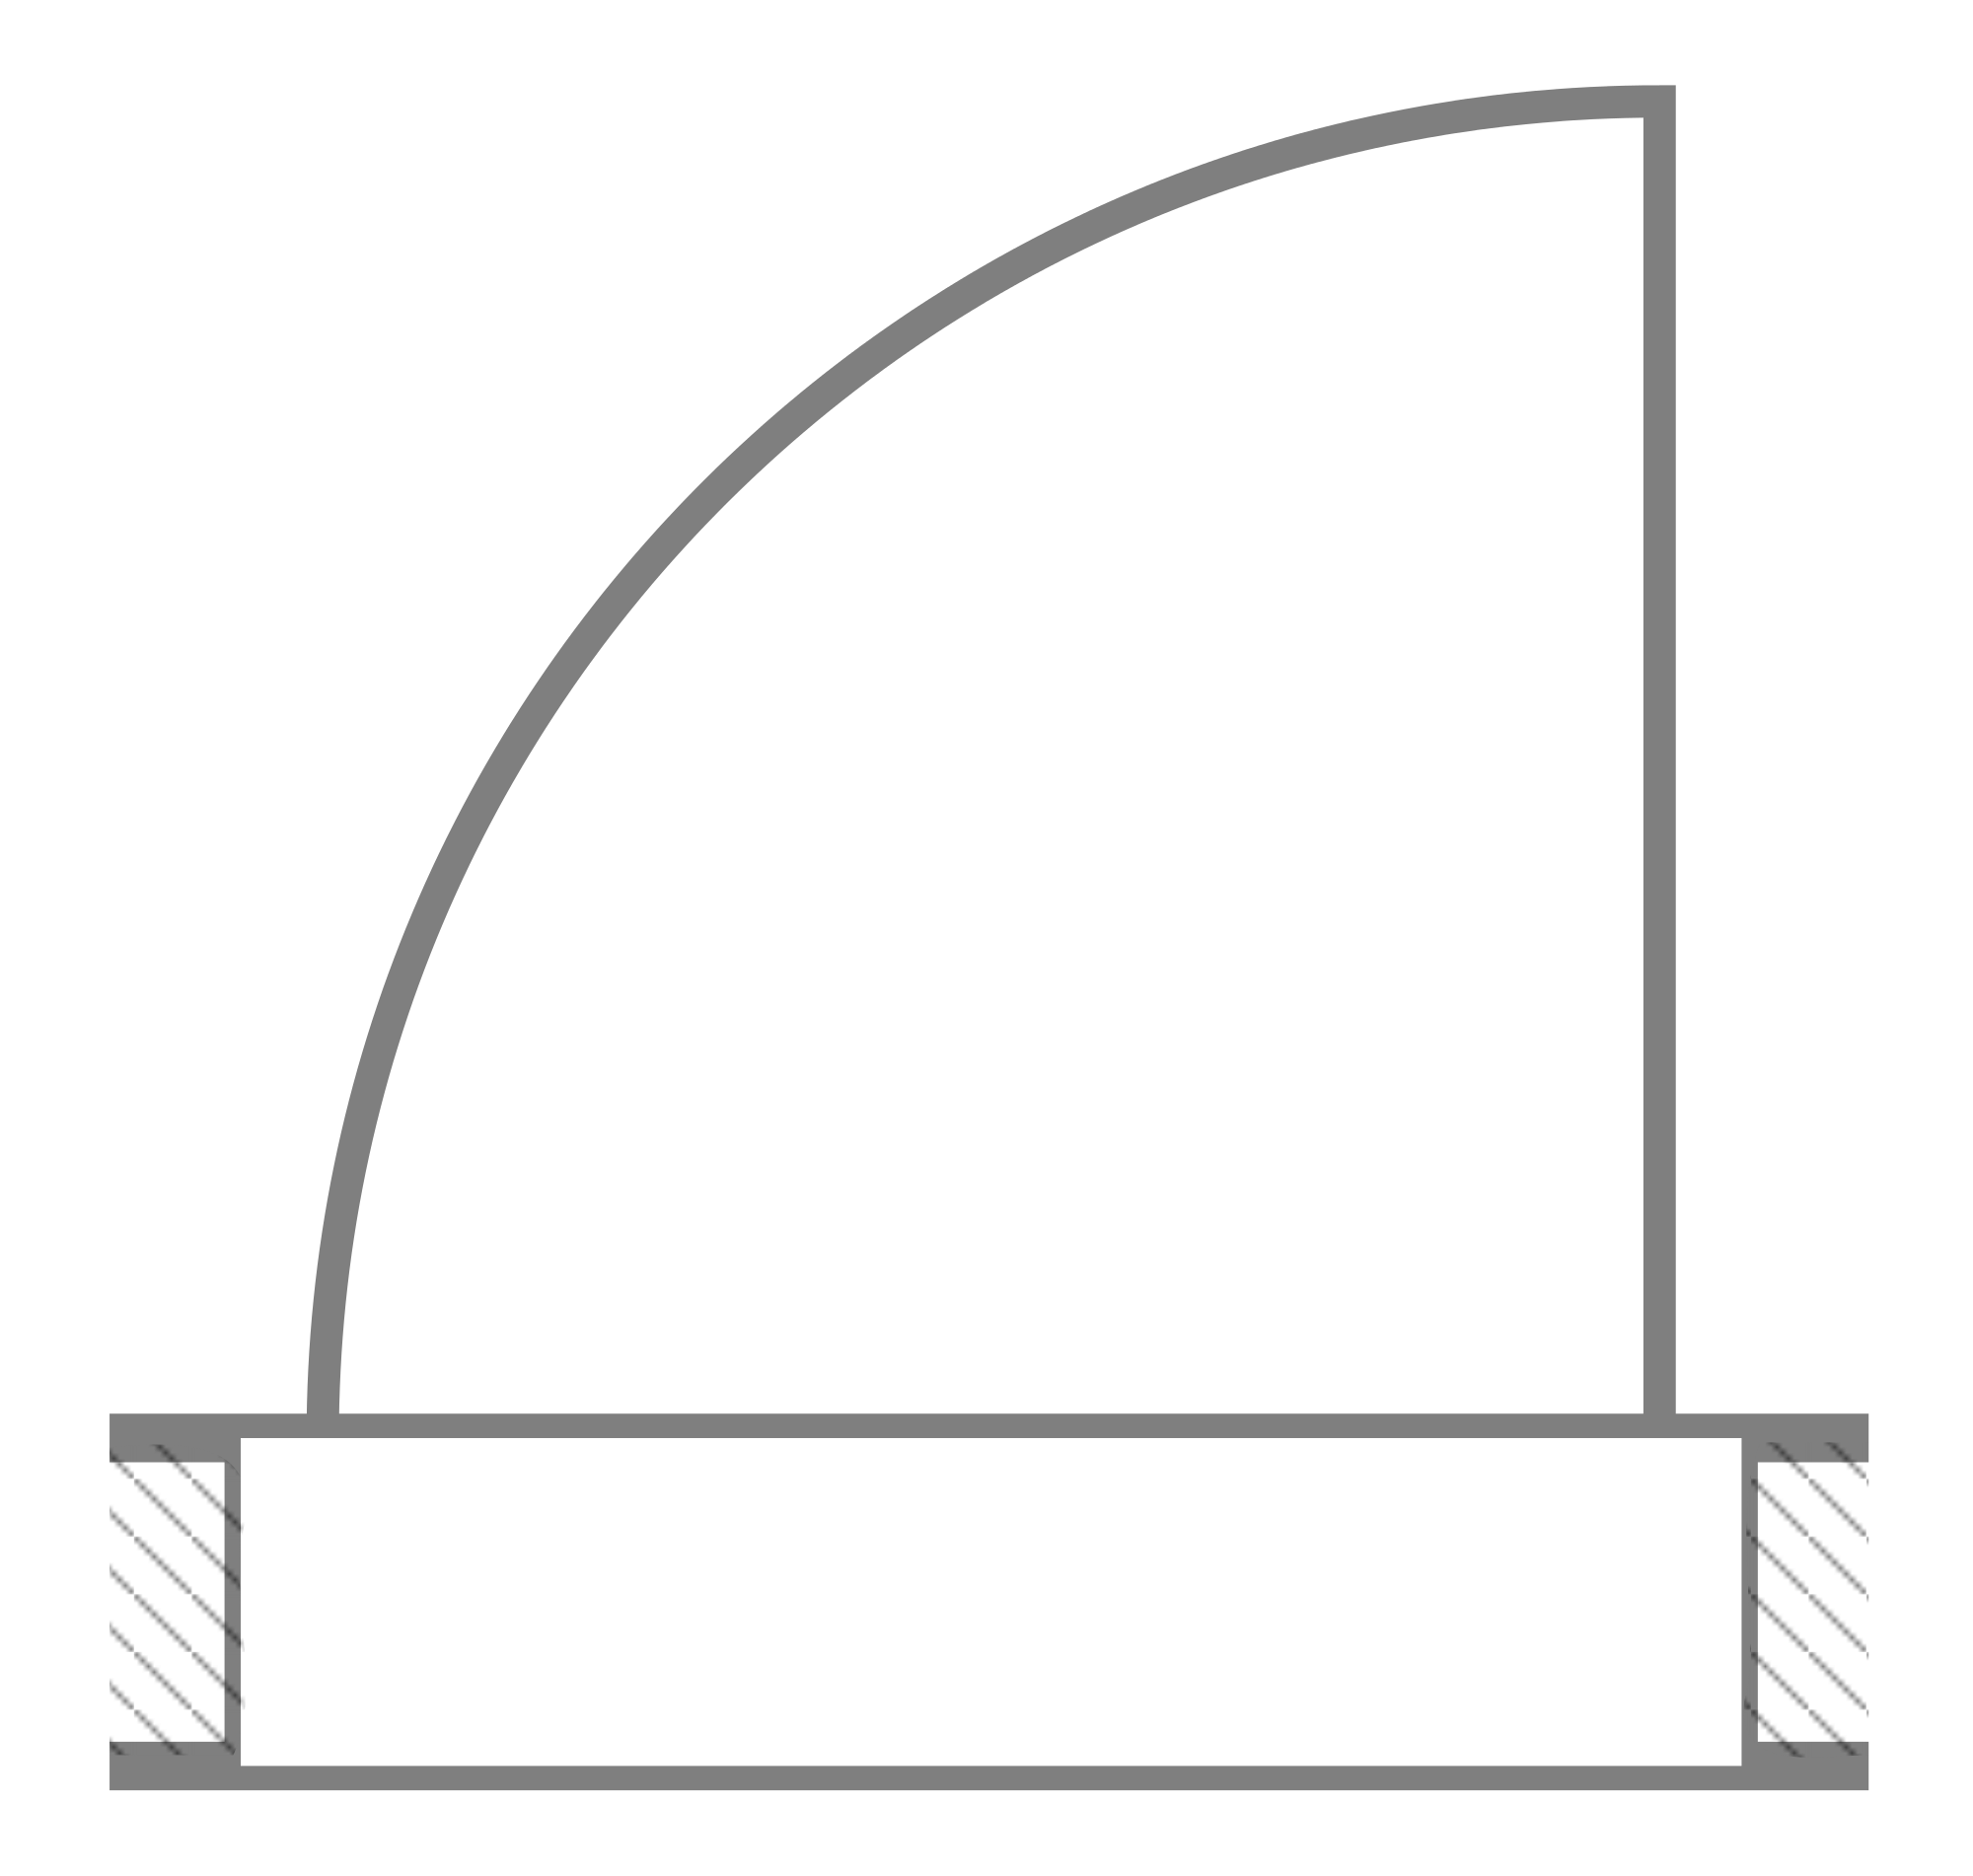door: (241, 55, 1730, 1427)
